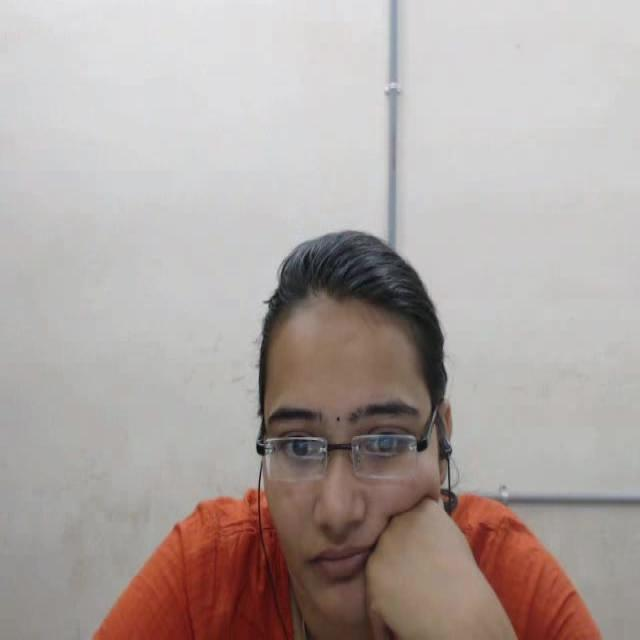Bored: (210, 206, 533, 640)
